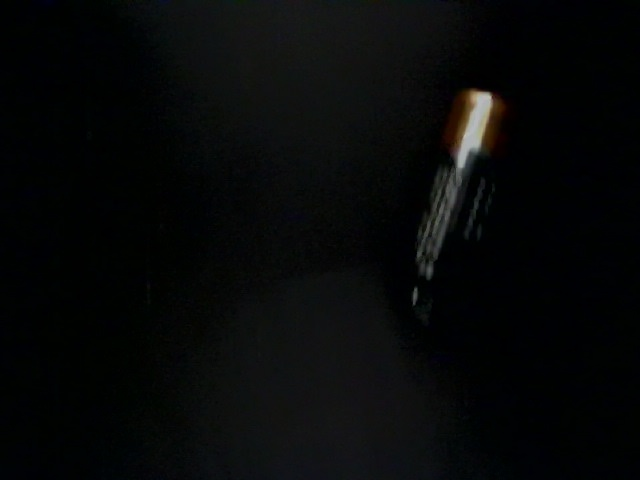QTLJ: (33, 1, 201, 175)
